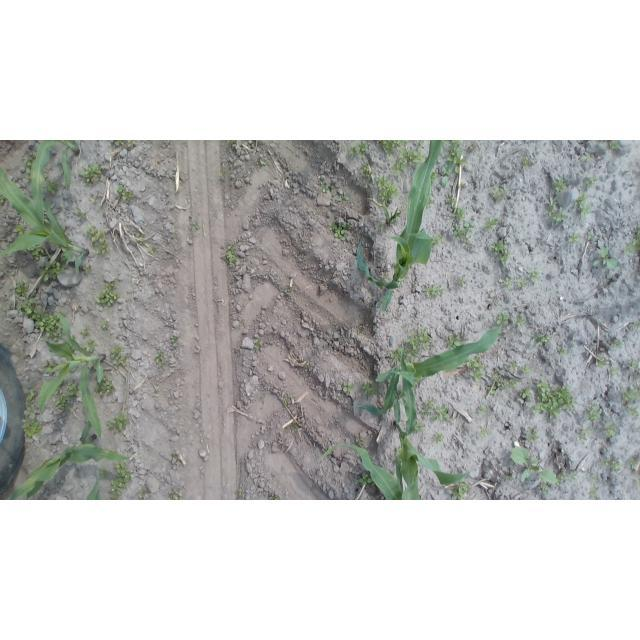Maize: (349, 314, 506, 416), (357, 141, 443, 314), (382, 344, 473, 500), (0, 156, 92, 276), (6, 420, 134, 500), (35, 308, 107, 449), (323, 442, 406, 500), (37, 140, 83, 190), (83, 468, 103, 500)
Weeds: (510, 446, 559, 486), (531, 381, 575, 420), (390, 141, 426, 176), (30, 312, 66, 341), (442, 141, 466, 178), (109, 462, 131, 500), (87, 225, 110, 255), (406, 330, 431, 357), (547, 197, 569, 227), (38, 259, 66, 282), (376, 176, 400, 201), (97, 281, 120, 307), (594, 246, 618, 268), (622, 389, 640, 418), (624, 223, 640, 255), (468, 356, 487, 380), (491, 239, 510, 263), (107, 413, 129, 433), (81, 164, 103, 184), (21, 418, 43, 438), (329, 221, 351, 240), (575, 192, 591, 218), (110, 346, 128, 368), (453, 222, 475, 240), (94, 378, 114, 397), (380, 140, 407, 154), (501, 276, 528, 289), (492, 374, 516, 388), (25, 387, 39, 411), (450, 483, 468, 500), (424, 284, 445, 298), (432, 404, 449, 421), (117, 186, 134, 203), (74, 205, 90, 223), (361, 381, 380, 396), (492, 187, 509, 203), (20, 298, 37, 314), (423, 399, 438, 417), (55, 393, 70, 411), (586, 405, 602, 421), (448, 334, 464, 350), (350, 140, 368, 154), (45, 177, 59, 195), (588, 478, 600, 498), (553, 178, 568, 194), (67, 381, 81, 398), (558, 472, 577, 484), (226, 246, 237, 266), (359, 472, 374, 486), (361, 163, 372, 182), (604, 458, 621, 470), (236, 488, 253, 500), (25, 154, 34, 176), (388, 210, 402, 224), (342, 382, 355, 397), (528, 268, 541, 283), (535, 484, 551, 496), (15, 281, 27, 297), (533, 333, 549, 345), (483, 217, 499, 229), (27, 245, 44, 256), (526, 429, 539, 443), (514, 313, 527, 327), (452, 207, 466, 220), (332, 191, 350, 201), (579, 427, 591, 442), (431, 169, 442, 185), (110, 141, 135, 148), (433, 234, 446, 247), (190, 220, 203, 233), (153, 351, 166, 364), (319, 181, 333, 193), (83, 340, 97, 352), (594, 356, 606, 369), (46, 361, 59, 373), (611, 336, 624, 348), (477, 427, 490, 439), (605, 423, 616, 437), (13, 223, 25, 235), (391, 348, 402, 361), (498, 313, 509, 326), (584, 177, 598, 187), (521, 386, 532, 398), (219, 170, 230, 182), (283, 394, 294, 406), (520, 364, 532, 375), (486, 385, 498, 396), (168, 492, 182, 501), (356, 437, 367, 448), (101, 322, 113, 332), (568, 233, 580, 243), (584, 234, 597, 243), (630, 457, 638, 470), (446, 195, 456, 205), (171, 451, 181, 461), (508, 361, 518, 371), (413, 421, 423, 431), (435, 433, 444, 444), (522, 156, 533, 165), (397, 390, 406, 401), (376, 222, 385, 233), (610, 141, 620, 150), (80, 327, 90, 336), (139, 490, 148, 500), (259, 393, 268, 403), (148, 246, 159, 254), (226, 141, 238, 148), (558, 348, 567, 357), (258, 157, 267, 166), (170, 335, 179, 344), (630, 361, 638, 371), (282, 286, 292, 294), (427, 197, 435, 207), (459, 278, 466, 289), (382, 273, 391, 281), (135, 234, 143, 243), (152, 389, 160, 398), (304, 364, 313, 372), (395, 446, 401, 458), (255, 341, 262, 351), (583, 155, 593, 162), (630, 322, 640, 329), (459, 183, 469, 190), (505, 473, 512, 483), (610, 366, 618, 374), (478, 406, 486, 414), (85, 267, 92, 276), (291, 423, 298, 430), (269, 496, 280, 500)
